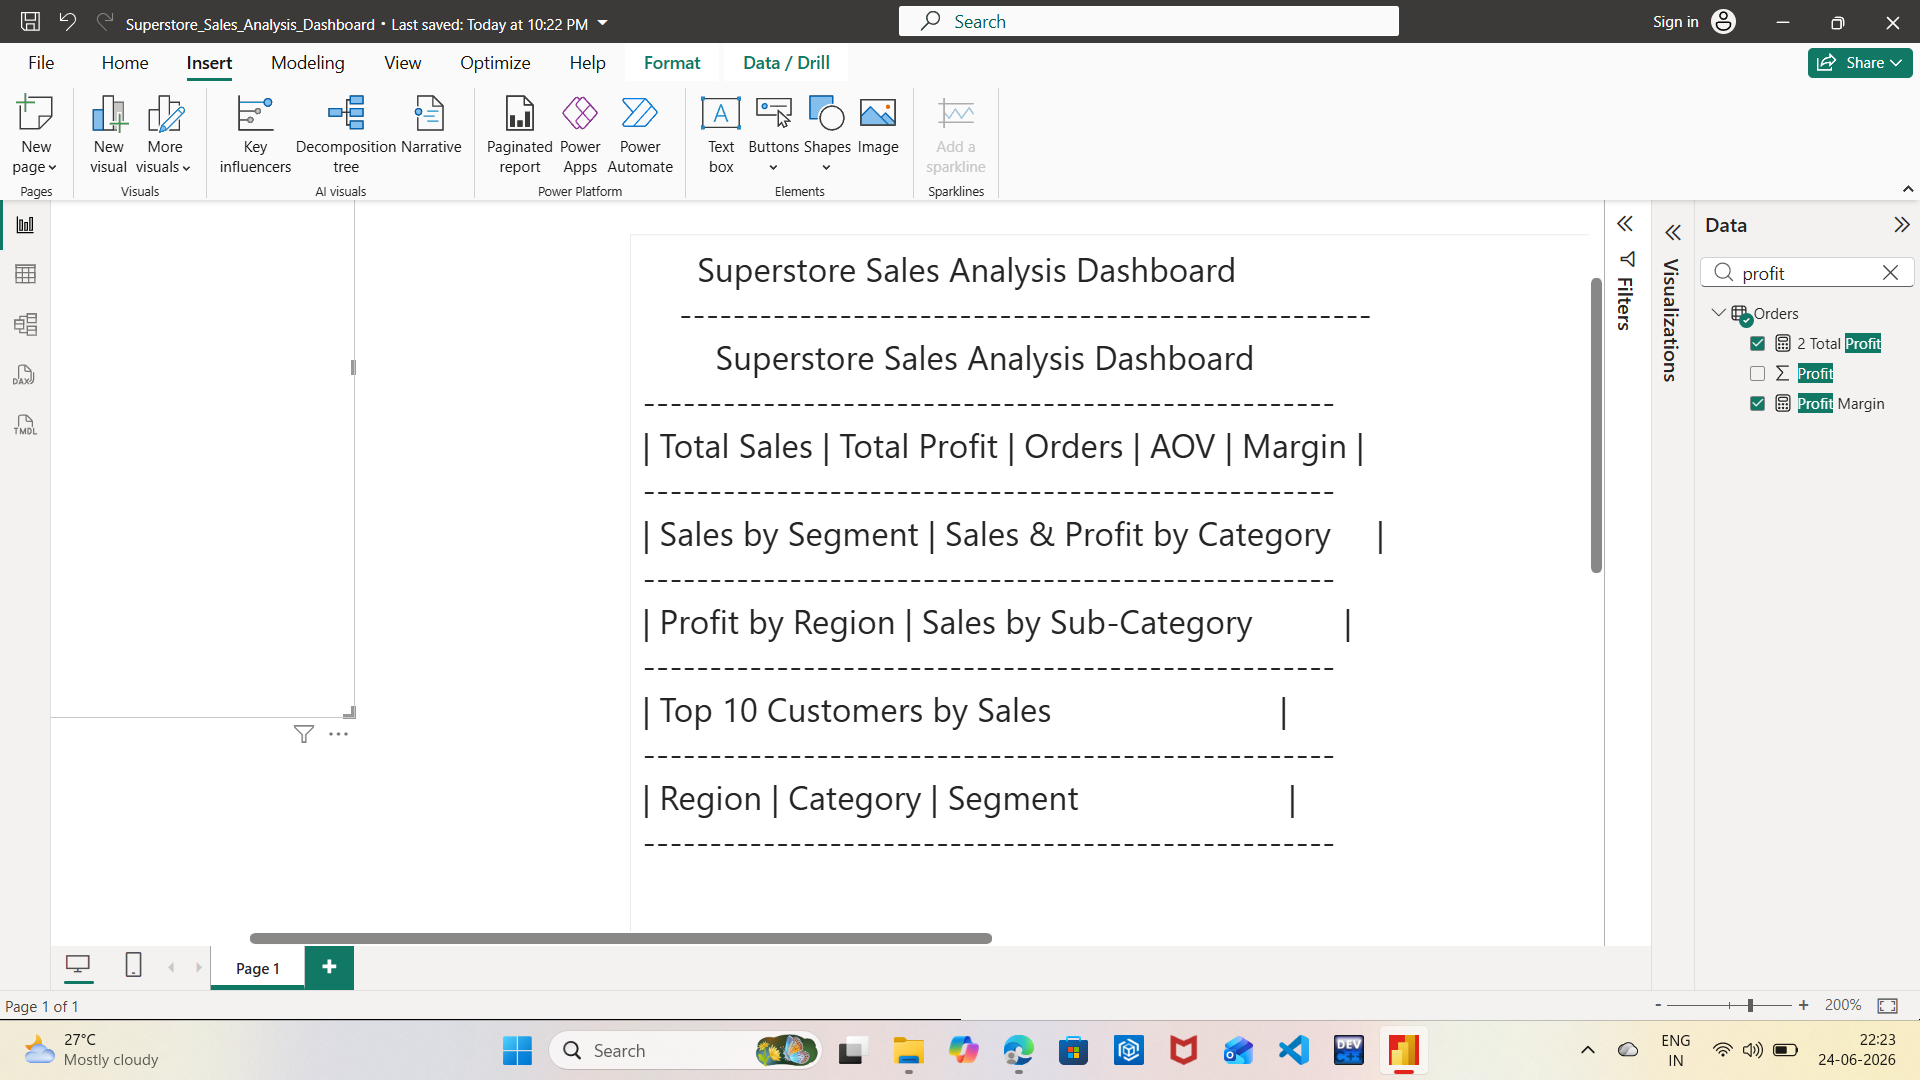

The dashboard page shown, as its layout file describes it:
{"tool":"powerbi","page":{"name":"Page 1","canvas":[1280,720],"ordinal":0},"visuals":[{"type":"cardVisual","fields":{"Rows":["Orders.Customer Name","Orders.Product ID"],"Data":["Orders.2 Total Profit","Orders.Total Orders","Orders.Average Order Value","Orders.Total Sales","Orders.2 Total Profit","Orders.Total Orders","Orders.Average Order Value","Orders.Profit Margin"]},"box":[10,0,280,280],"z":0},{"type":"textbox","box":[10,290,280,280],"z":1},{"type":"textbox","box":[10,570,280,150],"z":2},{"type":"textbox","box":[300,0,280,280],"z":3},{"type":"textbox","box":[400,86.7,520,413.3],"z":4}]}

Visuals, with their boxes on the page's 1280x720 design canvas (x1, y1, x2, y2). These are canvas units, not pixel positions in the 1920x1080 screenshot, which may show the page scaled, cropped or inside an application window:
cardVisual - Orders.Customer Name x Orders.Product ID: box=[10, 0, 290, 280]
textbox: box=[10, 290, 290, 570]
textbox: box=[10, 570, 290, 720]
textbox: box=[300, 0, 580, 280]
textbox: box=[400, 87, 920, 500]
